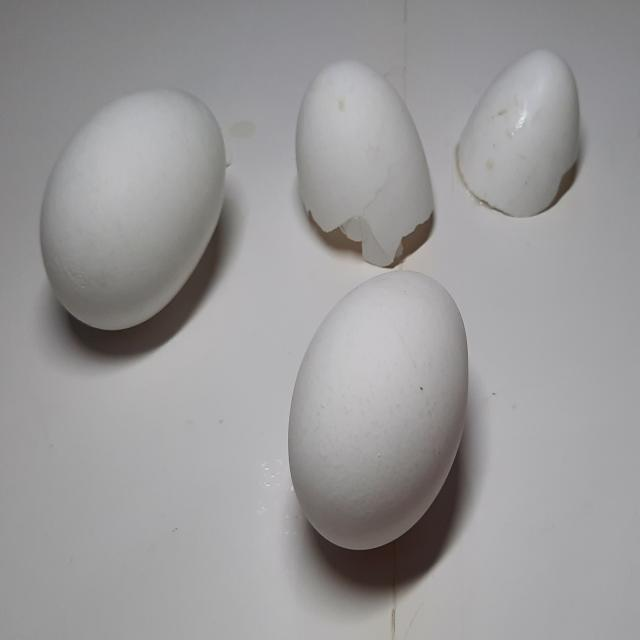egg shell: (280, 263, 478, 564), (34, 76, 233, 341), (286, 49, 439, 270), (450, 36, 586, 222)
